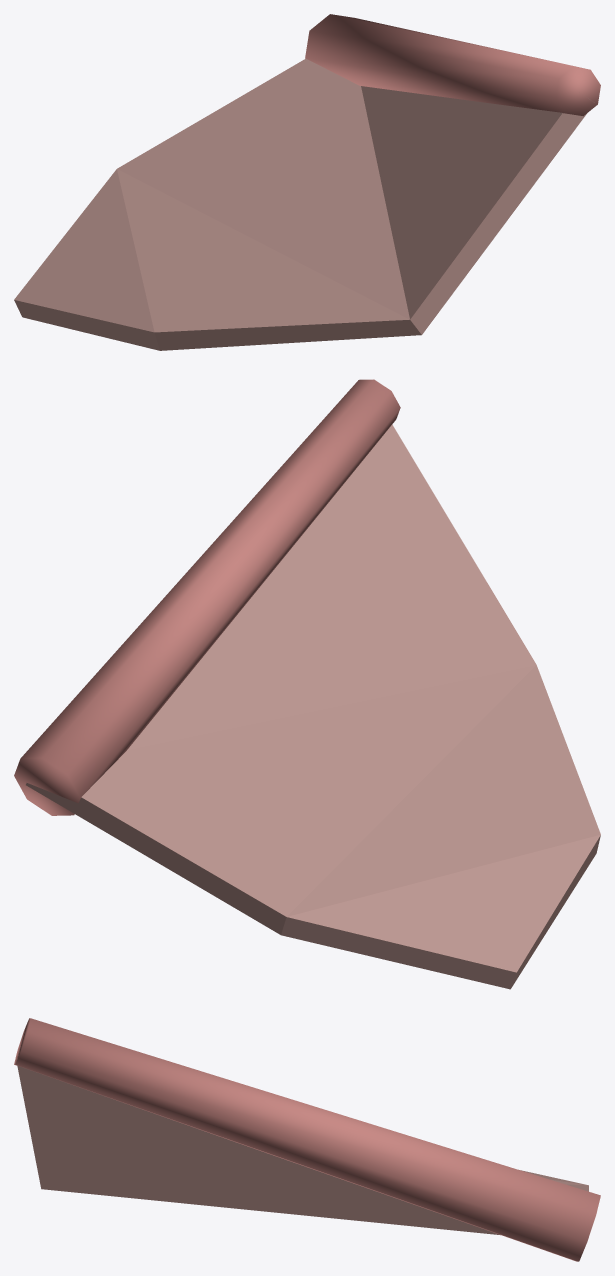
Rendered from bat_wing_in_R.glb.
The picture shows the model from 3 angles, top to bottom: view 1: azimuth 30°, elevation 25°; view 2: azimuth 150°, elevation 25°; view 3: azimuth 270°, elevation 25°; orthographic projection. The views are drawn at different scales.
Parts seen in each view (by area): view 1: bat_wing_in_R; view 2: bat_wing_in_R; view 3: bat_wing_in_R.
Boxes of the visible parts, <box> form: bat_wing_in_R: <box>14,14,600,350</box>; bat_wing_in_R: <box>14,379,600,989</box>; bat_wing_in_R: <box>14,1018,600,1261</box>.
Bounding box in the file's own units: 0.6498 × 0.4908 × 0.7771.
